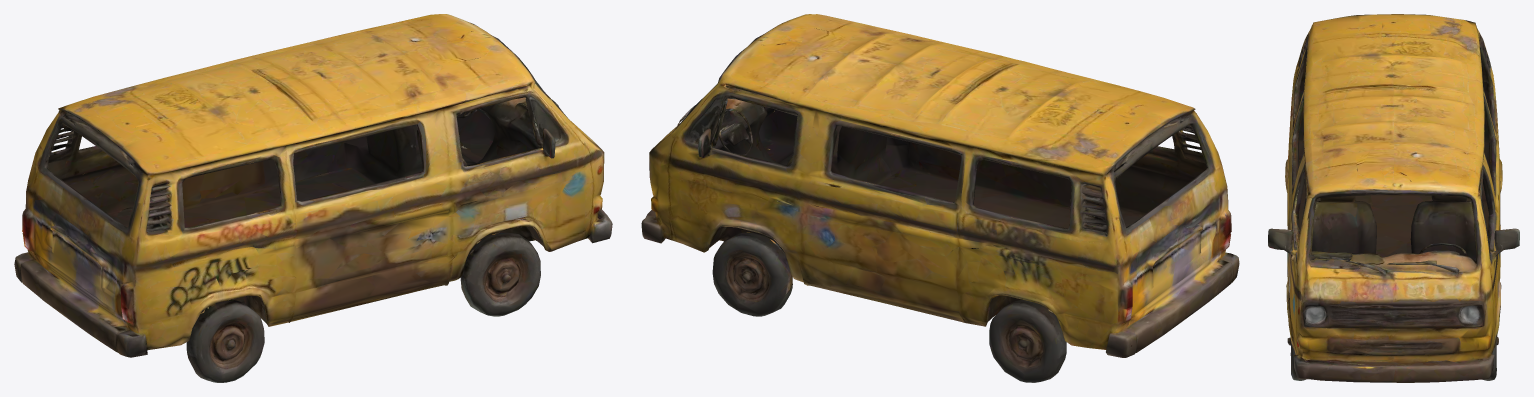
Rendered from lagos_danfo_bus.glb.
The picture shows the model from 3 angles, left to right: view 1: azimuth 30°, elevation 25°; view 2: azimuth 150°, elevation 25°; view 3: azimuth 270°, elevation 25°; orthographic projection. The views are drawn at different scales.
Parts seen in each view (by area): view 1: Object_4; view 2: Object_4; view 3: Object_4.
Boxes of the visible parts, x1,y1,x2,y2 form: Object_4: [14, 14, 612, 382]; Object_4: [641, 14, 1239, 382]; Object_4: [1268, 14, 1519, 382].
Size of the model in its own units: 2 by 0.8947 by 0.9516.
Materials: 1 (1 with a texture image).
